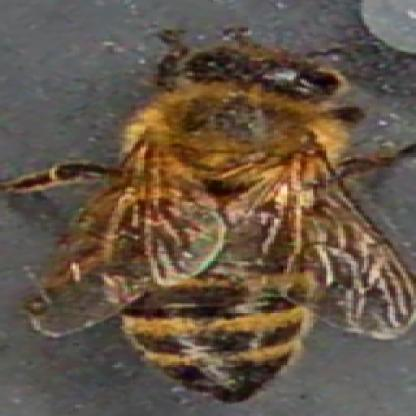bee: (104, 31, 345, 392)
